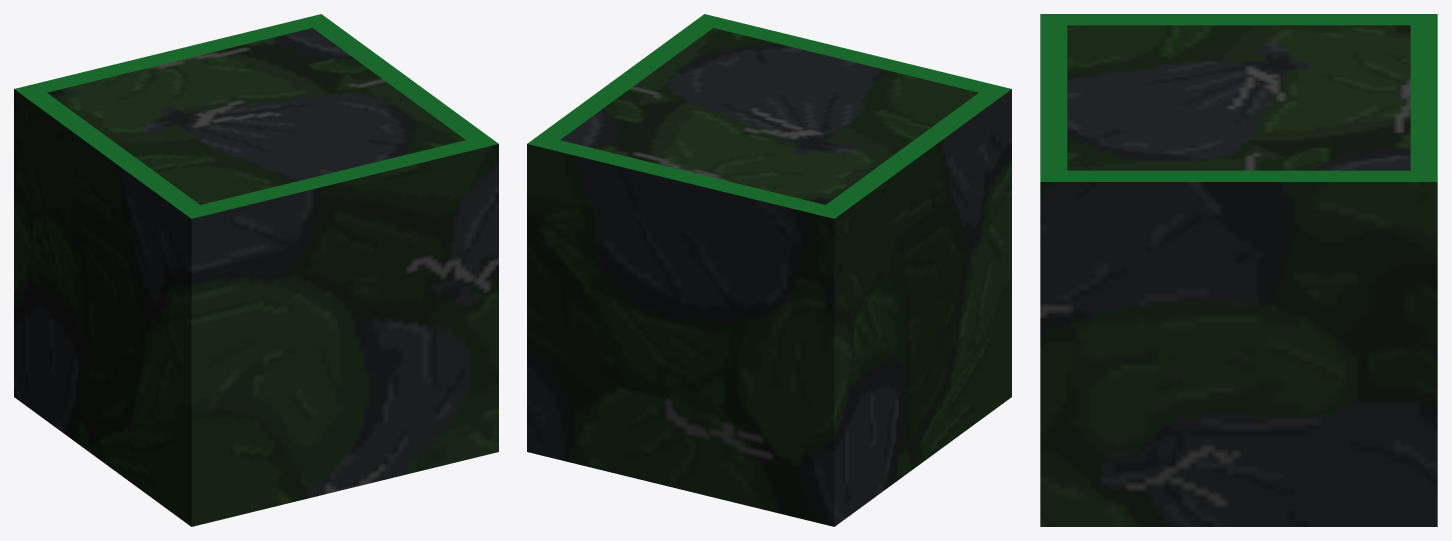
File: Baldosa.glb
3 renders of one model, left to right at view 1: azimuth 30°, elevation 25°; view 2: azimuth 150°, elevation 25°; view 3: azimuth 270°, elevation 25°, orthographic. The views are drawn at different scales.
Parts seen in each view (by area): view 1: Baldosa1; view 2: Baldosa1; view 3: Baldosa1.
Boxes of the visible parts, x1,y1,x2,y2 form: Baldosa1: [14, 14, 498, 526]; Baldosa1: [527, 14, 1011, 526]; Baldosa1: [1040, 14, 1437, 526].
Size of the model in its own units: 0.5891 by 0.5641 by 0.5891.
Materials: 2 (1 with a texture image).
